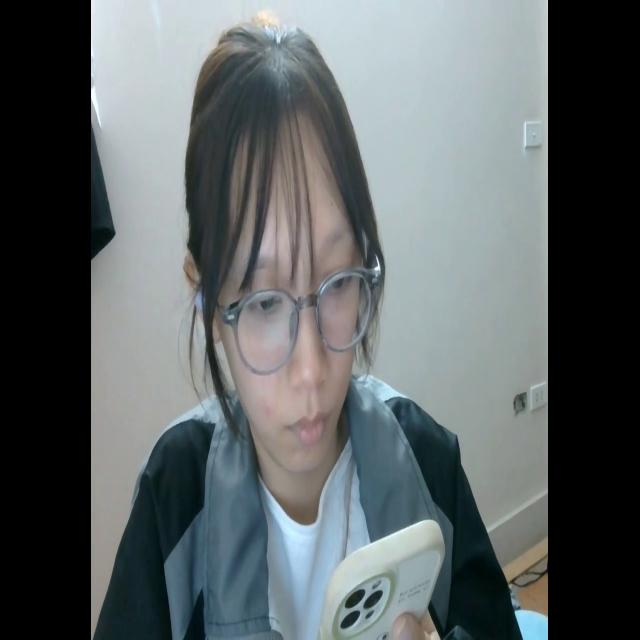phone: (316, 511, 444, 640)
student: (96, 15, 528, 640)
